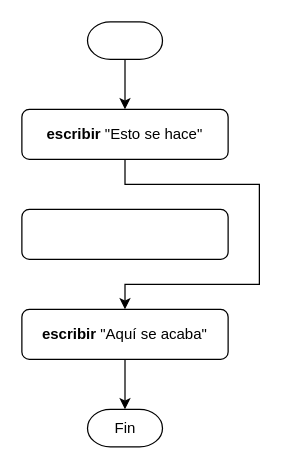
Some shapes in this 291 by 469 pixel diagram are drawn without their labels. The shapes that lost their labels are listed below. From the top down, each one's centre as x and y in pixels, then its label:
pixel 124 40: Inicio
pixel 124 233: escribir "Esto no se hace"
